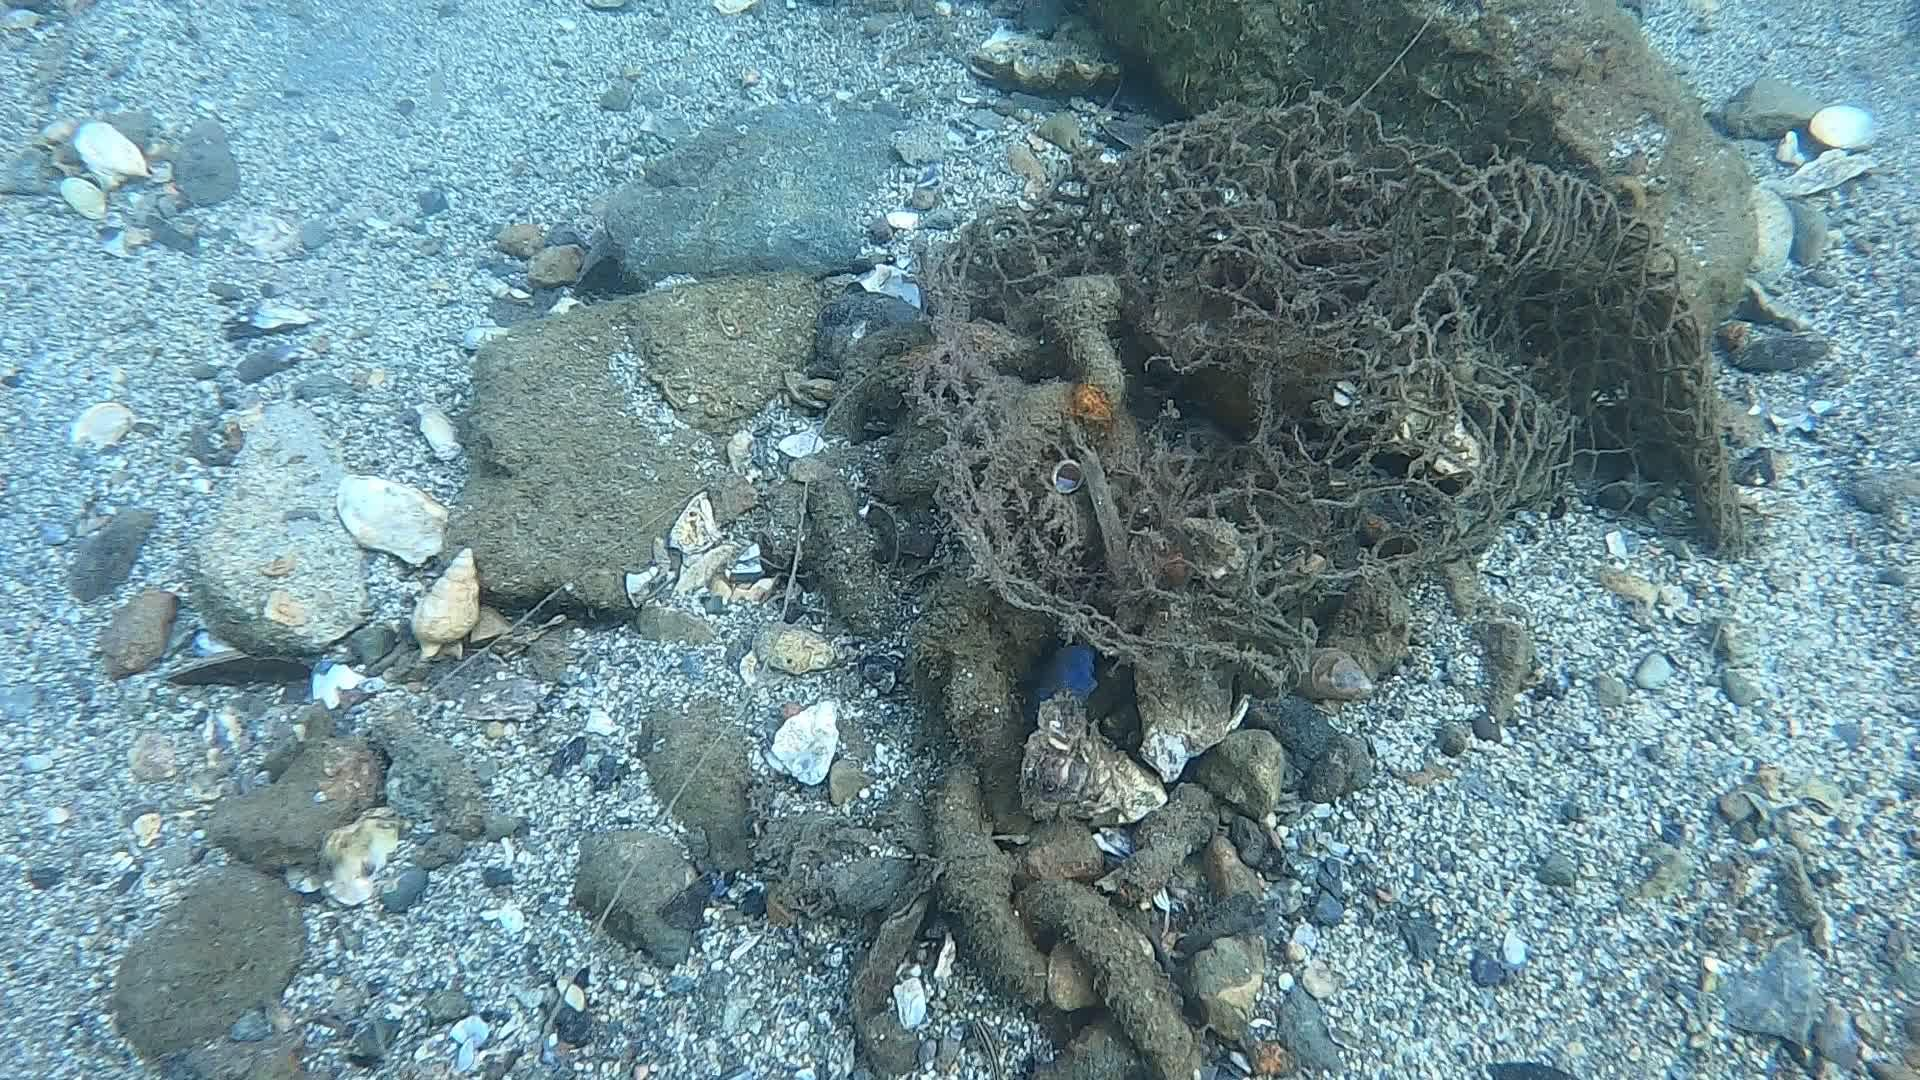fish net: (910, 99, 1706, 582)
